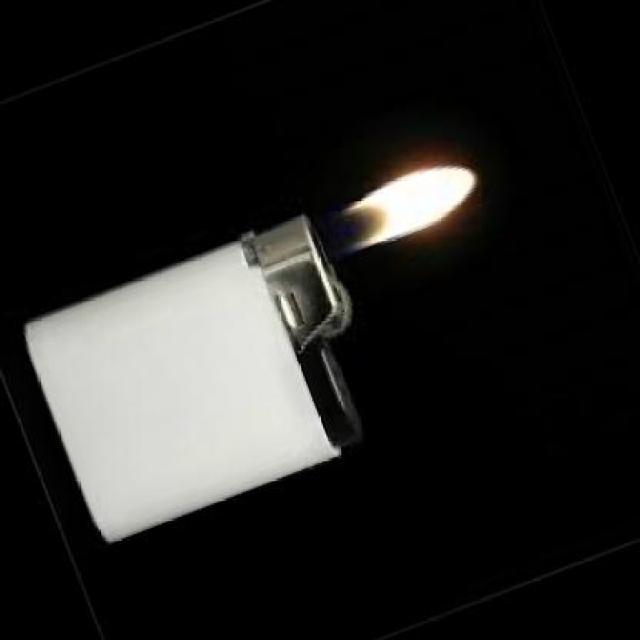Fire: (316, 166, 509, 254)
